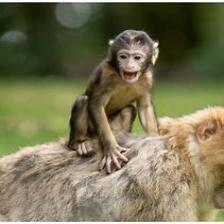monkey: (69, 27, 161, 170)
